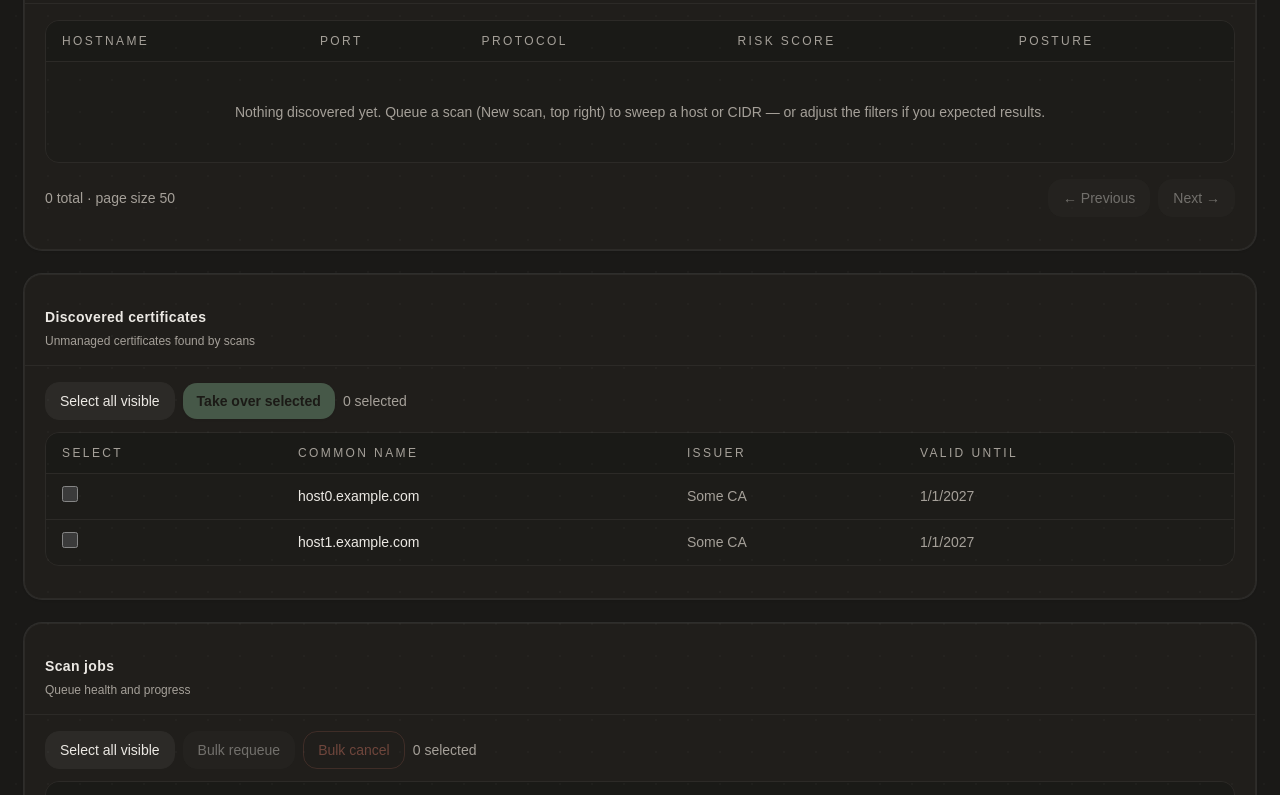
it: Discovery bulk takeover › prefills the owner when every suggestion agrees
(page scrolled)
Expected: the checkbox named "Select host0.example.com" is shown, [62,486,78,502]
Click the button "Select all visible" below "Unmanaged certificates found by scans". click: [110, 400]
box: [45,382,175,420]
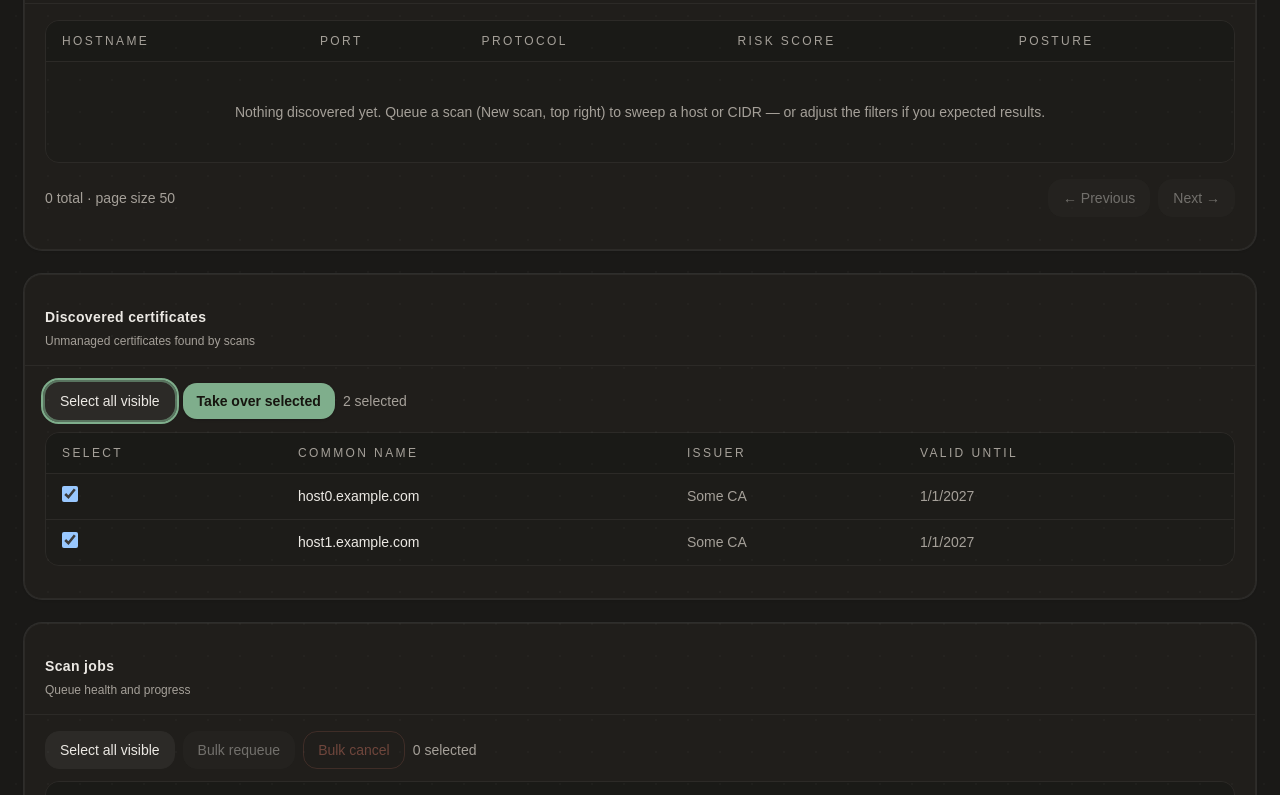
Click the button "Take over selected". click: [259, 400]
box: [183,382,335,418]
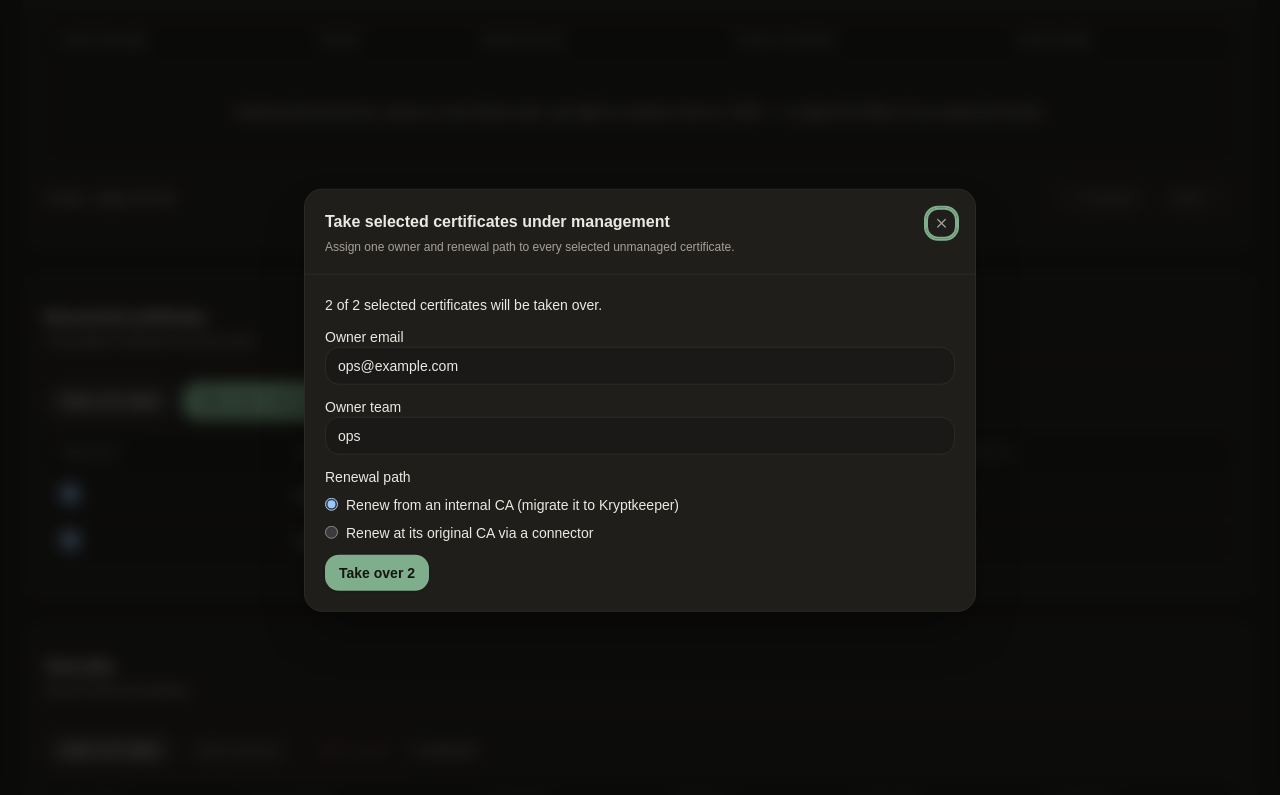
Now the field named "Takeover owner email" holds "ops@example.com", box [325,346,955,384]
